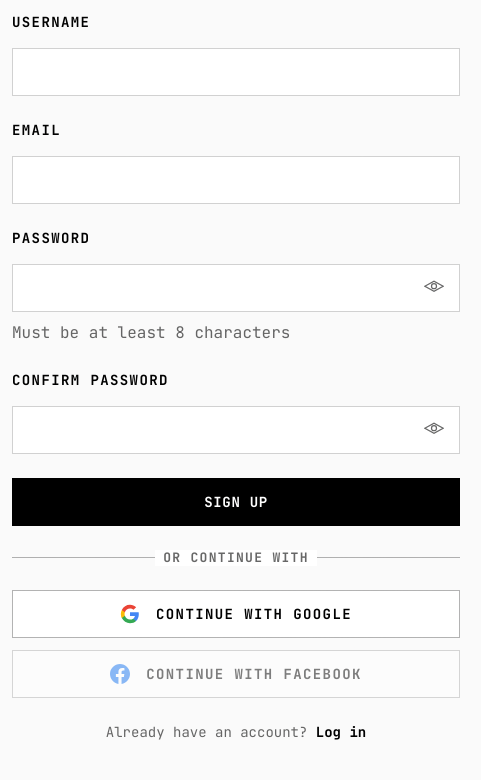
SignupForm › Client-side validation › validates username minimum length (3 characters)
This screenshot has width=481, height=780.
Type "ab" into the field labelled "Username".
click(236, 72); type("ab")  # box [12,48,460,96]
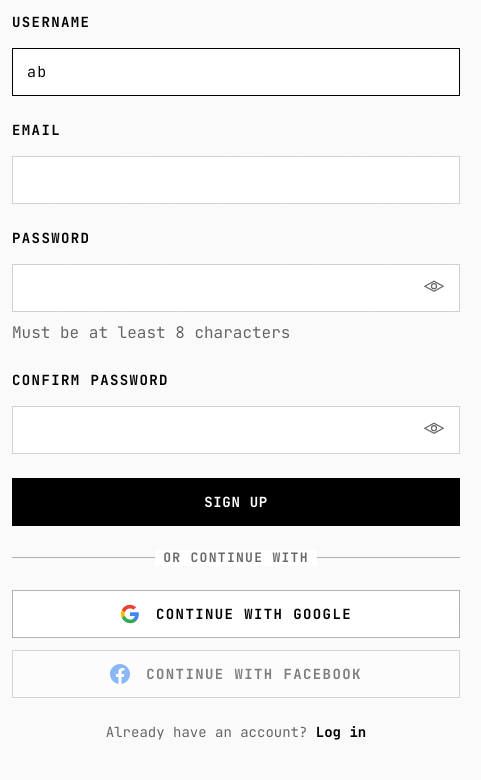
Type "test@example.com" into the field labelled "Email".
click(236, 180); type("test@example.com")  # box [12,156,460,204]
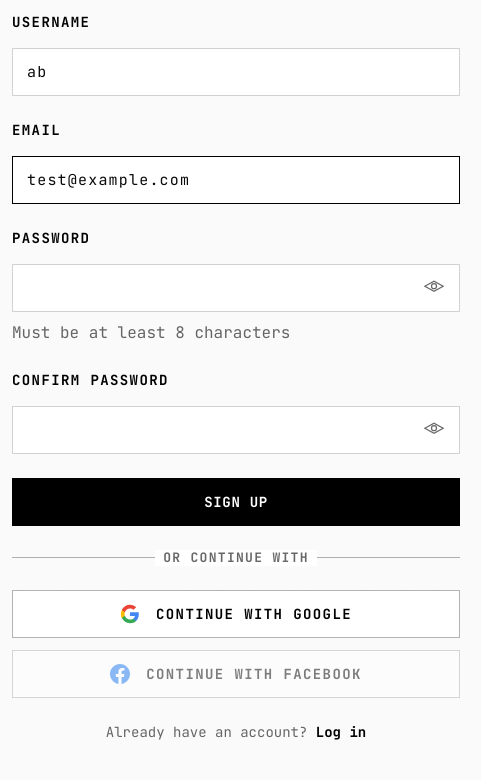
Type "password123" into the password field labelled "Password".
click(236, 288); type("password123")  # box [12,264,460,312]
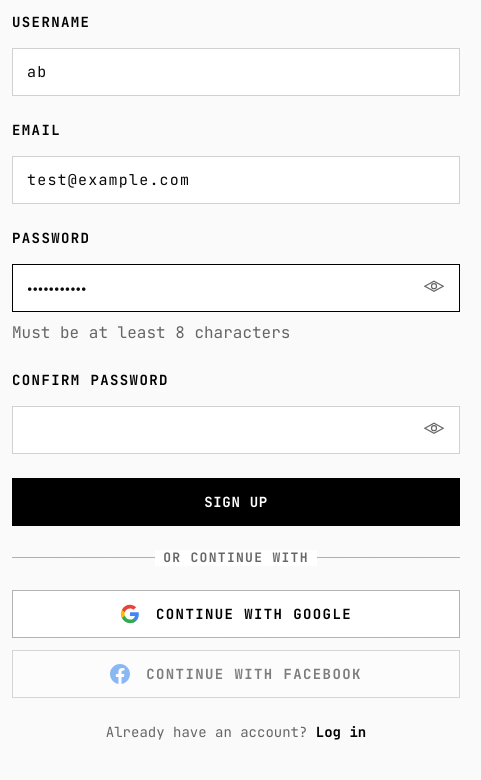
Type "password123" into the password field labelled "Confirm Password".
click(236, 430); type("password123")  # box [12,406,460,454]
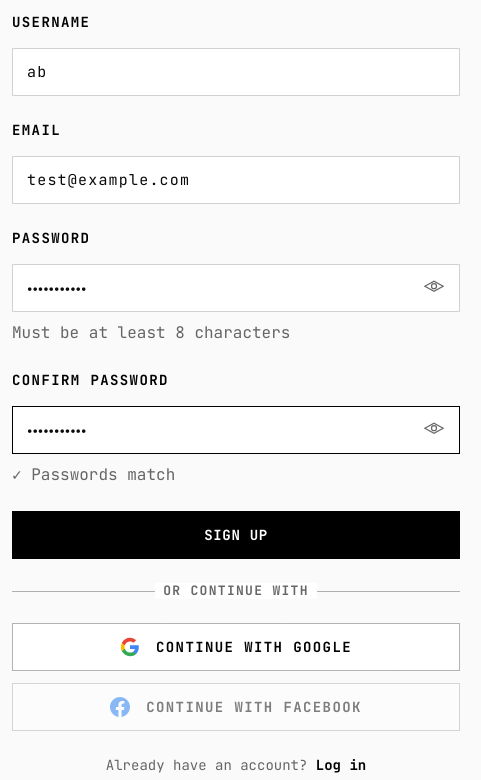
Click the button "Sign Up".
click(236, 535)  # box [12,511,460,559]
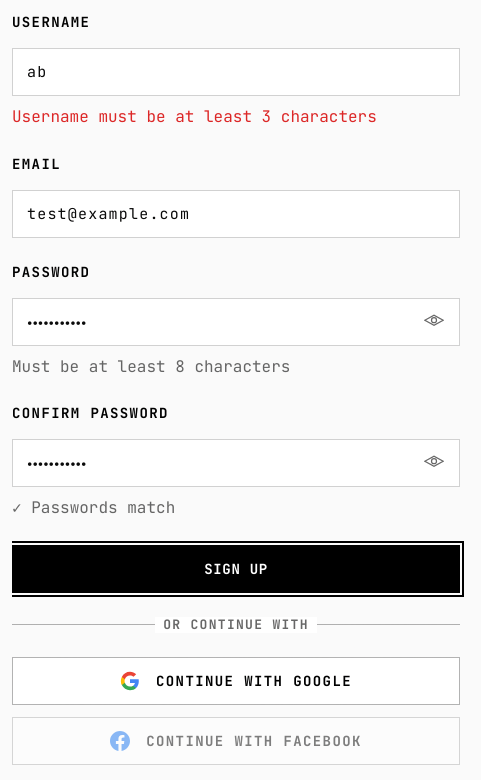
Expected: the text "Username must be at least 3 characters" is shown, [12,106,377,127]
